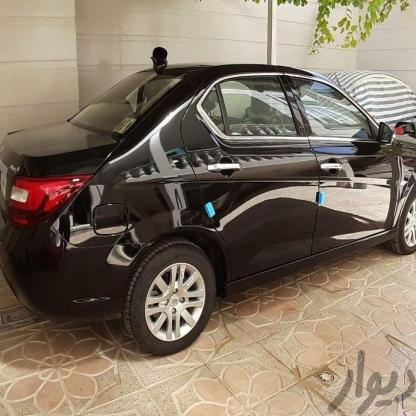Car: (0, 60, 416, 354)
